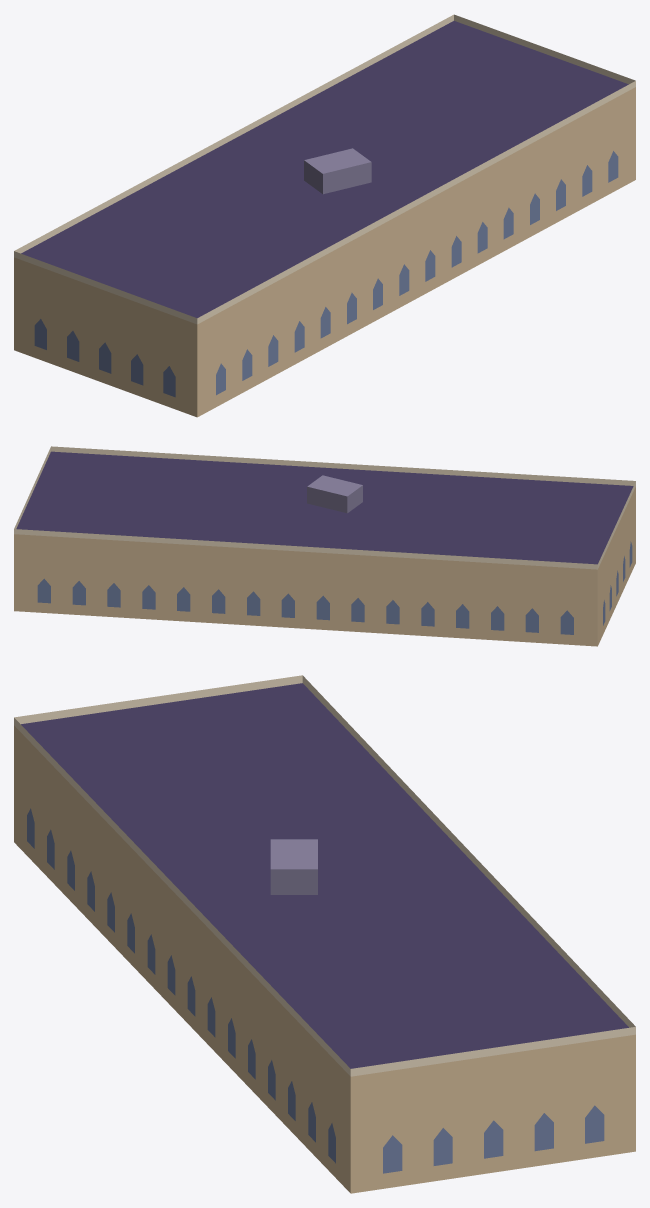
File: b-036-day.glb
The picture shows the model from 3 angles, top to bottom: view 1: azimuth 30°, elevation 25°; view 2: azimuth 150°, elevation 25°; view 3: azimuth 270°, elevation 25°; orthographic projection. The views are drawn at different scales.
Parts seen in each view (by area): view 1: campus/b-036-day-0; view 2: campus/b-036-day-0; view 3: campus/b-036-day-0.
Boxes of the visible parts, <box> form: campus/b-036-day-0: <box>14,14,635,417</box>; campus/b-036-day-0: <box>14,446,635,646</box>; campus/b-036-day-0: <box>14,675,635,1193</box>.
Bounding box in the file's own units: 59.18 × 10 × 39.52.
